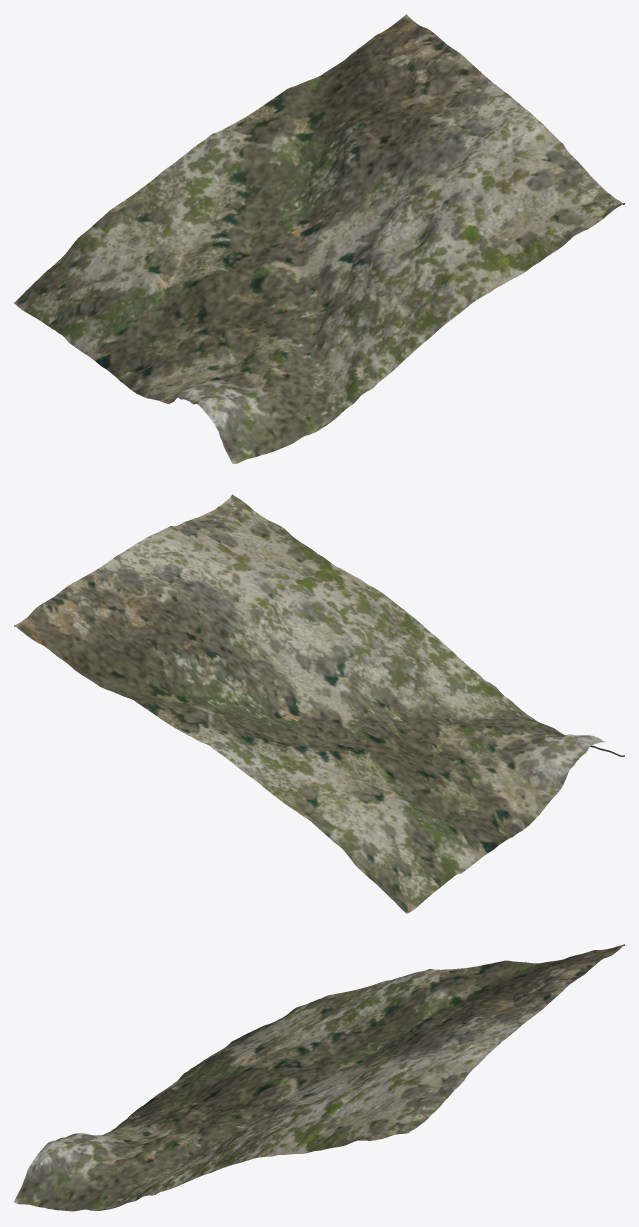
3 views of the same model, one above another, from view 1: azimuth 30°, elevation 25°; view 2: azimuth 150°, elevation 25°; view 3: azimuth 330°, elevation 25° (orthographic).
Size of the model in its own units: 250 by 120 by 241.
Materials: 1 (1 with a texture image).
